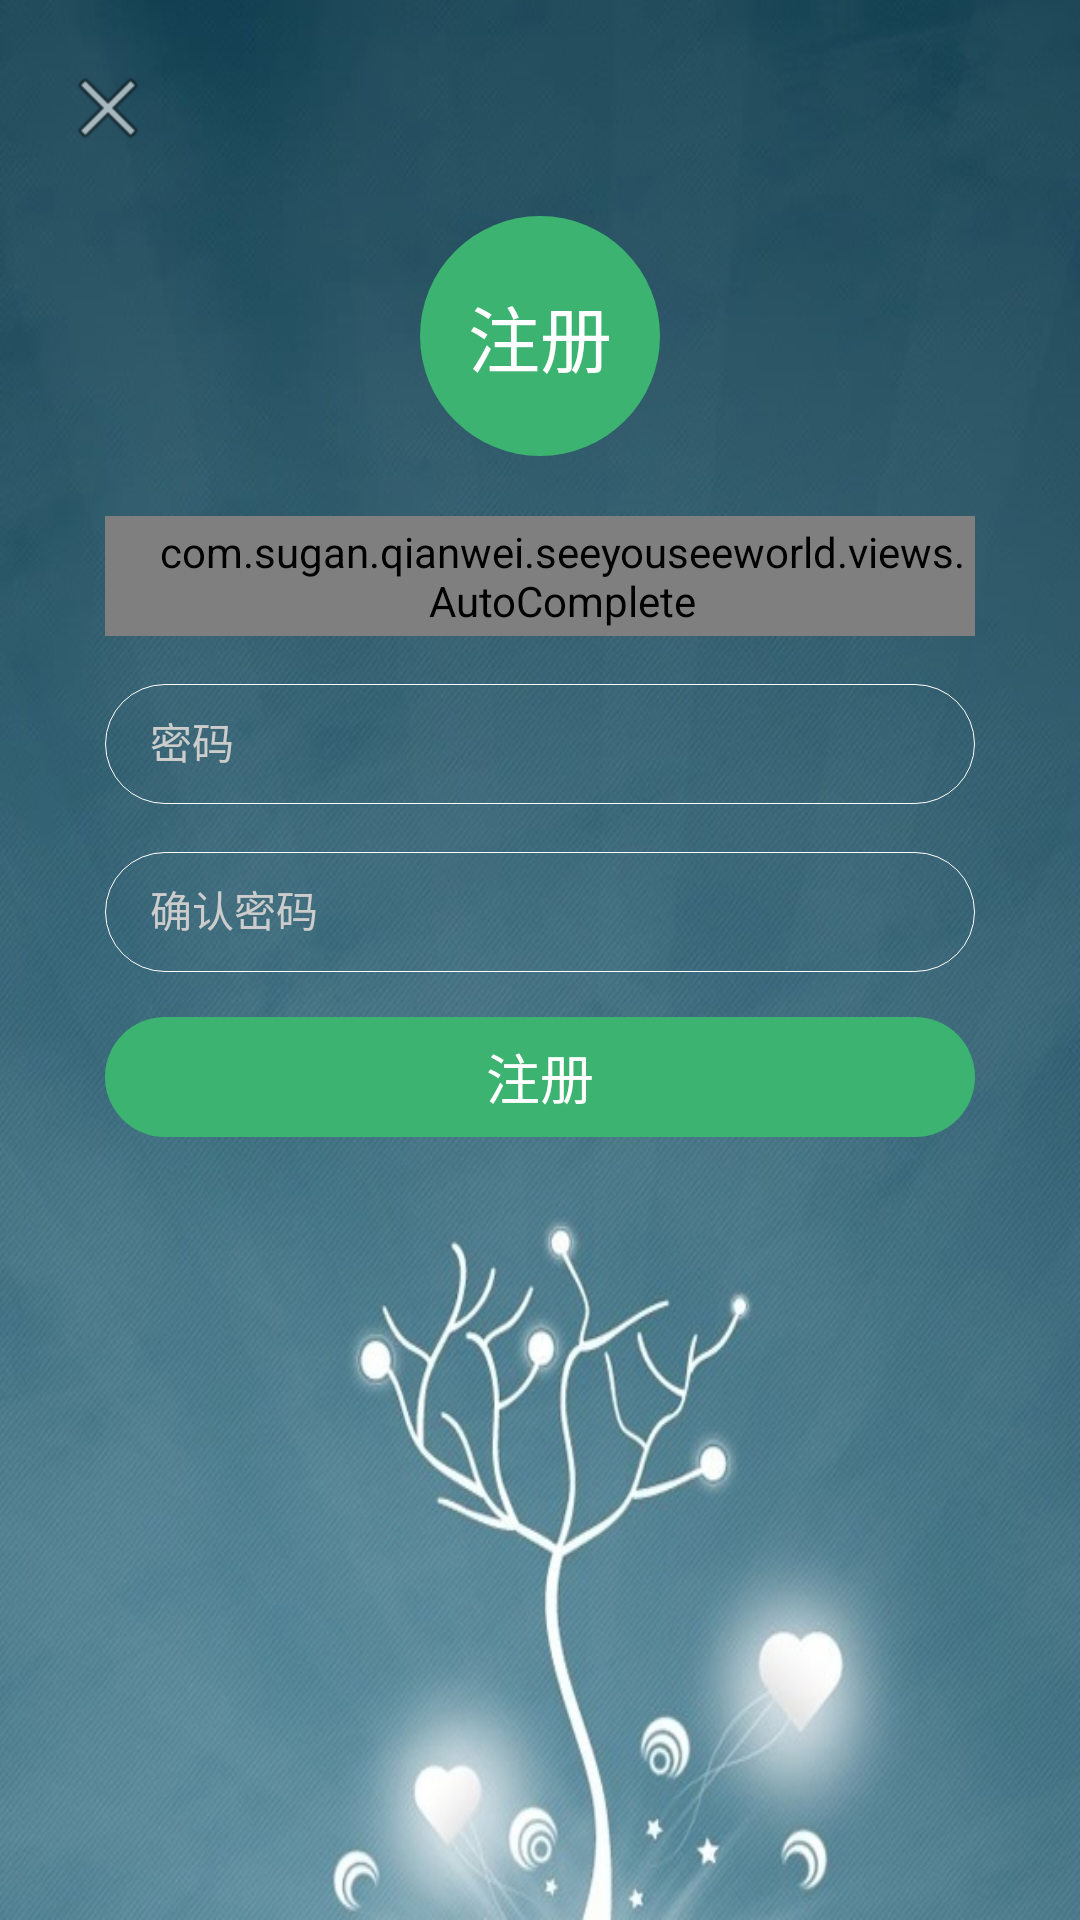

Screen size 1080w x 1920h. Icon name, then its center in pixels as [x,y]:
close clear cancel: [108,108]
